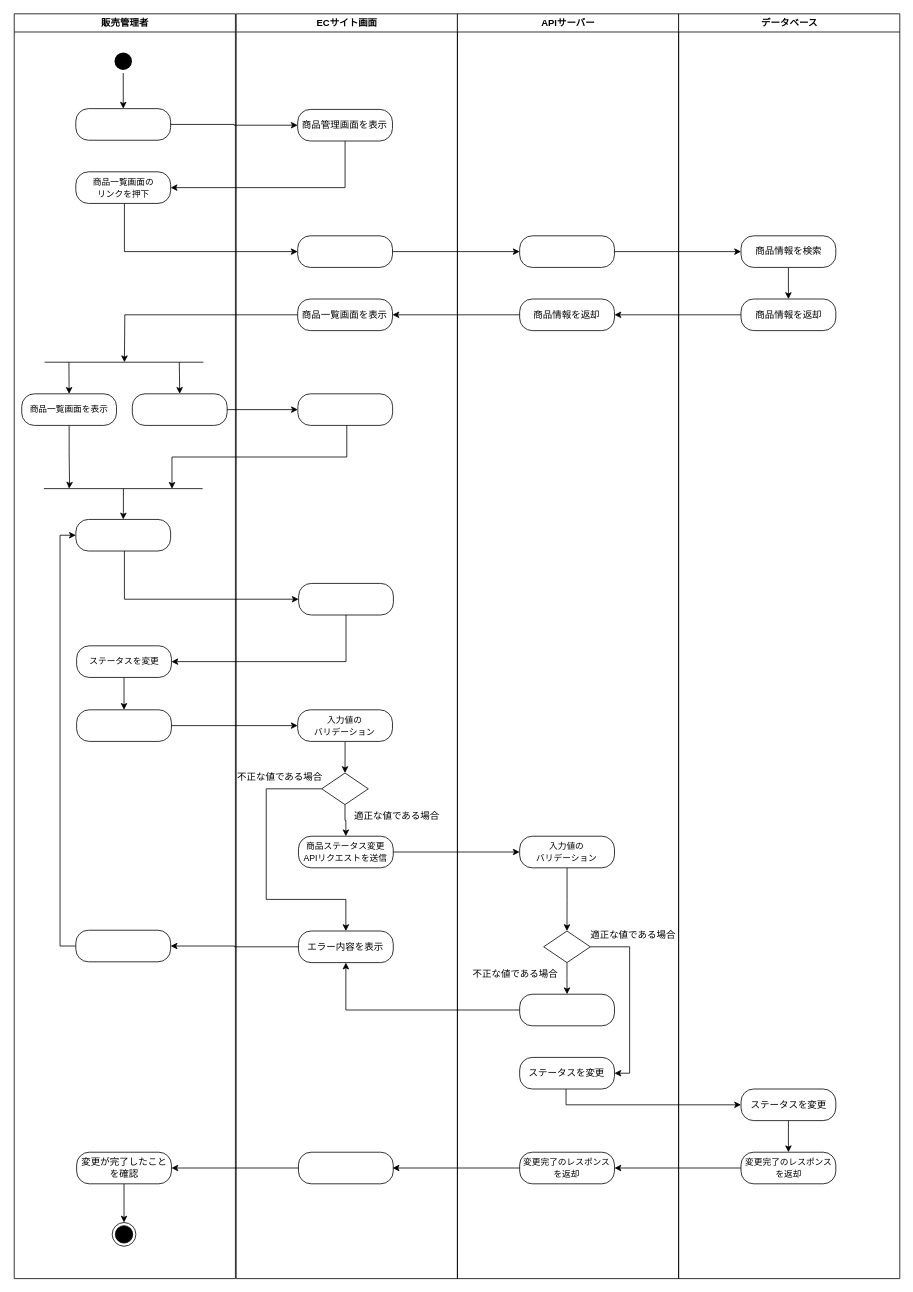
This 913x1292 diagram has some shape labels left out. The shapes that lost their labels are listed below. From the top down, each one's centre as x and y in pixels, then its label:
At (x=123, y=124): "商品管理画面に アクセス".
At (x=344, y=251): "商品情報取得 API リクエストを送信".
At (x=566, y=251): "商品情報を取得".
At (x=179, y=409): "商品詳細画面の リンクを押下".
At (x=345, y=409): "商品詳細画面を表示".
At (x=123, y=535): "ステータス変更ボタンを押下".
At (x=345, y=599): "ステータス変更画面を表示".
At (x=123, y=725): "更新ボタンを押下".
At (x=123, y=945): "エラー内容を確認".
At (x=566, y=1009): "エラーを返却".
At (x=345, y=1167): "商品管理画面に 変更完了の メッセージを表示".
